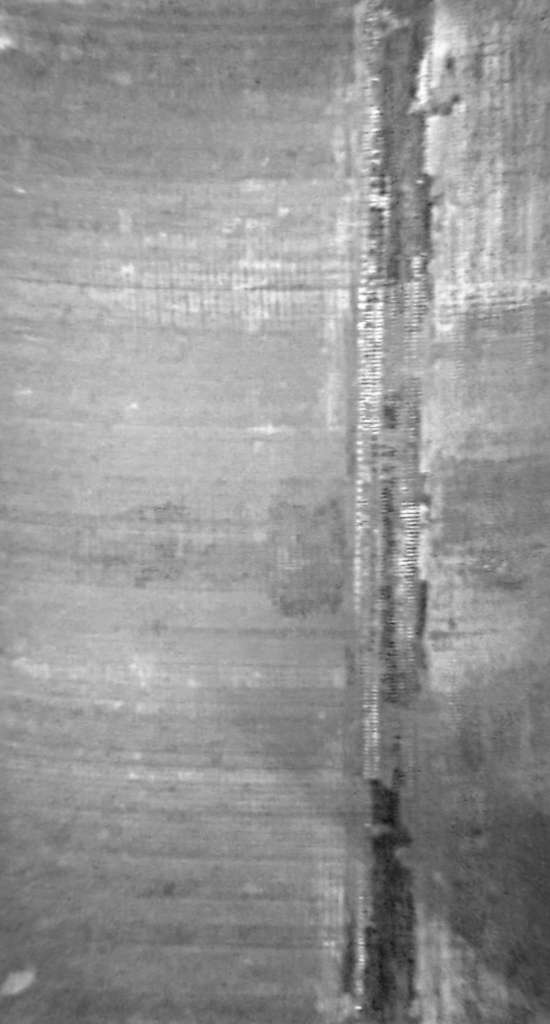splice: (337, 3, 441, 1024)
